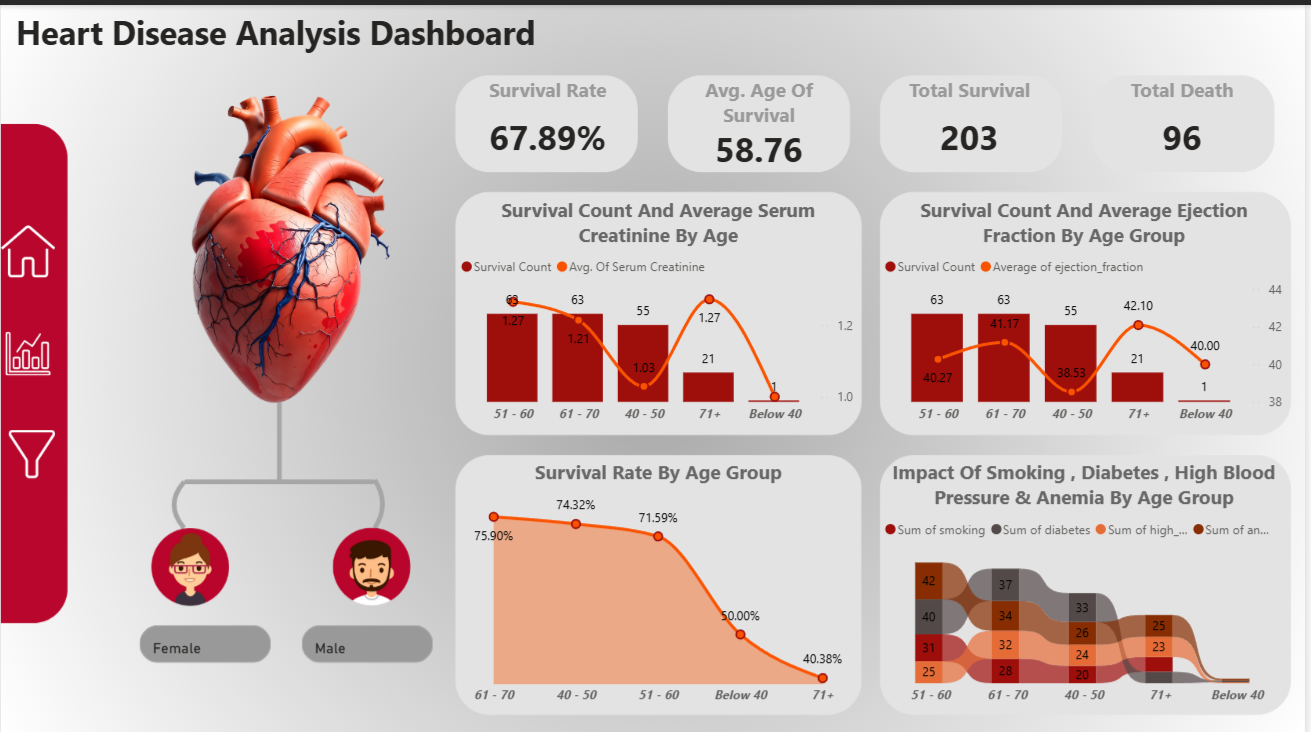

What the dashboard file says about the page in this screenshot:
{"tool":"powerbi","page":{"name":"Page 1","canvas":[1280,720],"ordinal":0},"visuals":[{"type":"textbox","box":[9.8,0,571.8,57.7],"z":0},{"type":"card","title":"Survival Rate","fields":{"Values":["heart_Disease_clinical_records_.Survival_Rate"]},"box":[446.6,69.9,180.4,94.5],"z":1000},{"type":"card","title":"Avg. Age Of Survival","fields":{"Values":["heart_Disease_clinical_records_.Average_Age_Survival"]},"box":[655.2,69.9,177.9,94.5],"z":2000},{"type":"card","title":"Total Survival","fields":{"Values":["heart_Disease_clinical_records_.Total_Survivor"]},"box":[862.6,69.9,176.7,94.5],"z":3000},{"type":"card","title":"Total Death","fields":{"Values":["heart_Disease_clinical_records_.Total_Death"]},"box":[1069.9,69.9,179.1,94.5],"z":4000},{"type":"lineClusteredColumnComboChart","title":"Survival Count And Average Serum Creatinine By Age","fields":{"Category":["heart_Disease_clinical_records_.AGE_Group"],"Y":["CountNonNull(heart_Disease_clinical_records_.DEATH_EVENT)"],"Y2":["Avg(heart_Disease_clinical_records_.serum_creatinine)"]},"box":[446.6,187.7,397.5,231.9],"z":5000},{"type":"lineClusteredColumnComboChart","title":"Survival Count And Average Ejection Fraction By Age  Group","fields":{"Category":["heart_Disease_clinical_records_.AGE_Group"],"Y":["CountNonNull(heart_Disease_clinical_records_.DEATH_EVENT)"],"Y2":["Avg(heart_Disease_clinical_records_.ejection_fraction)"]},"box":[862.6,187.7,401.2,231.9],"z":6000},{"type":"areaChart","title":"Survival Rate By Age Group","fields":{"Category":["heart_Disease_clinical_records_.AGE_Group"],"Y":["heart_Disease_clinical_records_.Survival_Rate"]},"box":[446.6,445.4,397.5,250.3],"z":6001},{"type":"ribbonChart","title":"Impact Of Smoking , Diabetes , High Blood Pressure & Anemia By Age Group","fields":{"Category":["heart_Disease_clinical_records_.AGE_Group"],"Y":["Sum(heart_Disease_clinical_records_.smoking)","Sum(heart_Disease_clinical_records_.diabetes)","Sum(heart_Disease_clinical_records_.high_blood_pressure)","Sum(heart_Disease_clinical_records_.anaemia)"]},"box":[862.6,445.4,401.2,250.3],"z":6002},{"type":"advancedSlicerVisual","fields":{"Values":["heart_Disease_clinical_records_.Gender"]},"box":[131.3,603.7,298.2,47.9],"z":6003}]}

Visuals, with their boxes in screenshot pixels (x1, y1, x2, y2), scaled from the page's 1280x720 canvas onto the 1311x732 screenshot:
textbox: 10,0,596,59
"Survival Rate" card: 457,71,642,167
"Avg. Age Of Survival" card: 671,71,853,167
"Total Survival" card: 883,71,1064,167
"Total Death" card: 1096,71,1279,167
"Survival Count And Average Serum Creatinine By Age" lineClusteredColumnComboChart: 457,191,865,427
"Survival Count And Average Ejection Fraction By Age  Group" lineClusteredColumnComboChart: 883,191,1294,427
"Survival Rate By Age Group" areaChart: 457,453,865,707
"Impact Of Smoking , Diabetes , High Blood Pressure & Anemia By Age Group" ribbonChart: 883,453,1294,707
advancedSlicerVisual - heart_Disease_clinical_records_.Gender: 134,614,440,662
